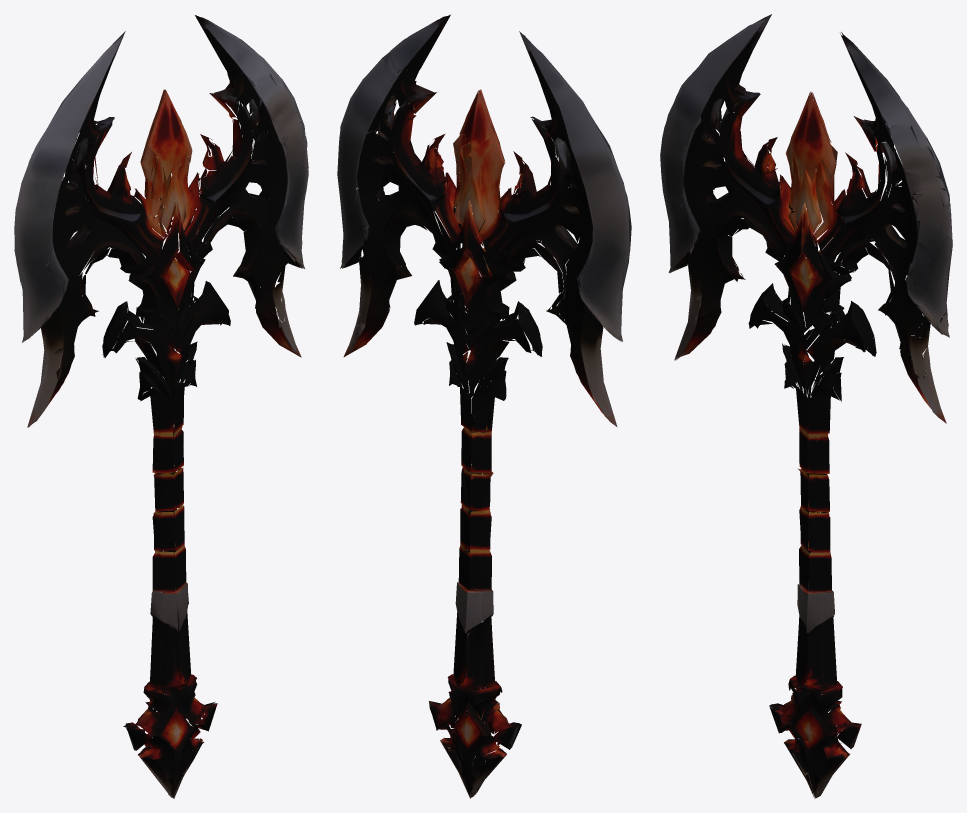
3 views of the same model, side by side, from view 1: azimuth 30°, elevation 25°; view 2: azimuth 150°, elevation 25°; view 3: azimuth 330°, elevation 25° (orthographic).
Parts seen in each view (by area): view 1: variant_0; view 2: variant_0; view 3: variant_0.
Boxes of the visible parts, box(x1,y1,x2,y2) form: variant_0: box(14, 15, 308, 798); variant_0: box(337, 14, 631, 798); variant_0: box(660, 14, 952, 798).
Size of the model in its own units: 0.4721 by 1.19 by 0.0683.
1 material, 1 textured.
